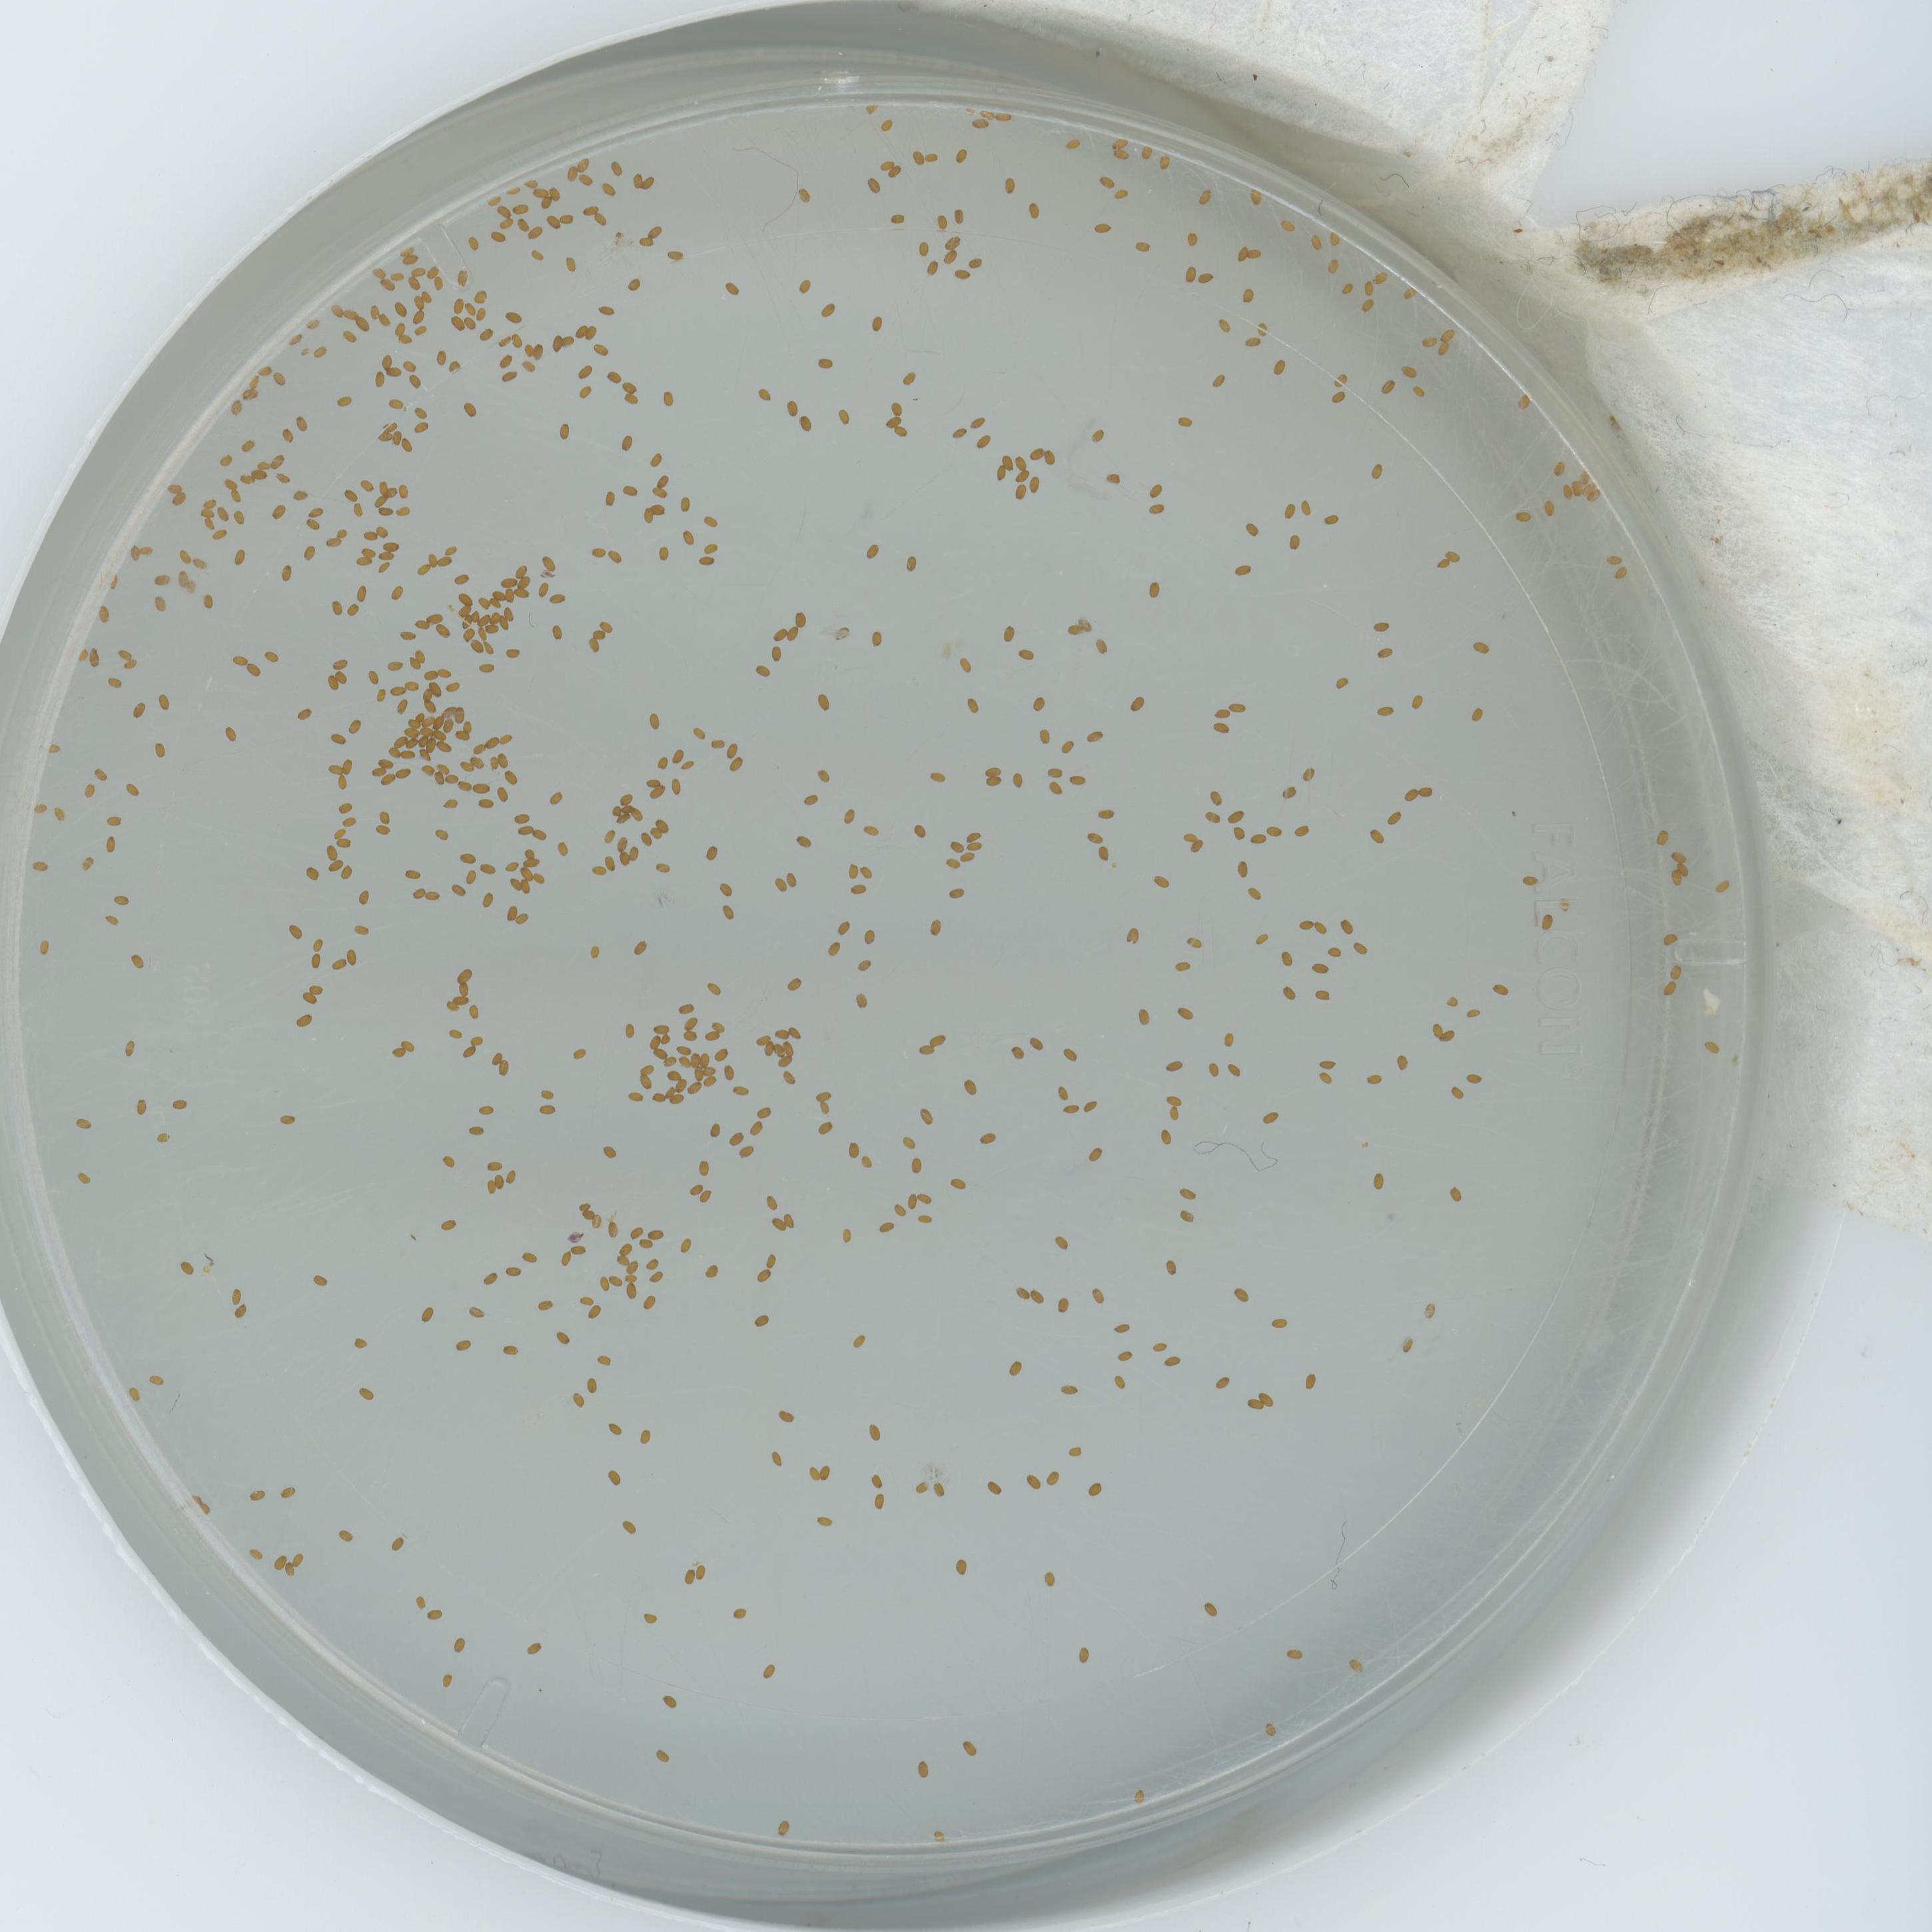seed: (855, 955, 876, 975), (1023, 200, 1042, 221), (1000, 175, 1019, 196), (957, 1739, 978, 1759), (771, 1819, 793, 1838), (195, 1500, 216, 1520), (127, 950, 147, 970), (1164, 1054, 1184, 1074), (1346, 1656, 1366, 1675), (1131, 1789, 1150, 1808), (186, 1484, 205, 1504), (540, 554, 557, 575), (308, 952, 326, 973), (170, 1093, 191, 1111), (1369, 1171, 1387, 1192), (929, 1828, 950, 1845), (147, 1373, 168, 1391), (1067, 771, 1090, 787), (175, 547, 193, 566), (502, 904, 520, 924), (591, 340, 610, 357), (931, 1481, 950, 1499), (952, 1559, 970, 1578), (782, 1067, 800, 1086), (1127, 695, 1146, 713), (1277, 948, 1297, 966), (1537, 911, 1555, 931), (1162, 1352, 1182, 1369), (1258, 1389, 1276, 1408), (1284, 1645, 1304, 1663), (1060, 1382, 1079, 1399), (126, 1385, 145, 1403), (32, 856, 51, 874), (51, 805, 71, 823), (952, 267, 973, 283), (87, 648, 101, 671), (354, 890, 372, 908), (111, 892, 129, 909), (901, 368, 918, 386), (577, 361, 594, 379), (669, 747, 686, 764), (784, 398, 801, 416), (927, 918, 945, 936), (285, 922, 303, 939), (796, 414, 814, 432), (462, 400, 479, 418), (655, 860, 672, 878), (292, 414, 310, 432), (458, 849, 476, 867), (816, 694, 833, 711), (497, 350, 515, 368), (865, 541, 883, 559), (858, 863, 876, 881), (357, 476, 375, 494), (352, 584, 370, 602), (276, 564, 294, 582), (793, 610, 810, 628), (474, 591, 492, 609), (617, 433, 635, 451), (230, 508, 248, 525), (954, 147, 971, 165), (554, 1327, 571, 1345), (177, 1258, 195, 1276), (418, 1304, 435, 1322), (817, 1116, 835, 1134), (906, 1155, 924, 1173), (950, 1175, 968, 1192), (846, 1139, 863, 1157), (727, 1131, 745, 1148), (754, 1030, 771, 1047), (1472, 637, 1490, 655), (1092, 637, 1109, 655), (1008, 771, 1026, 789), (1145, 580, 1162, 598), (1233, 862, 1251, 879), (1368, 462, 1385, 479), (1024, 1474, 1042, 1491), (1042, 1468, 1060, 1486), (980, 1127, 998, 1145), (1447, 1185, 1465, 1203), (1074, 1647, 1092, 1665), (1263, 1721, 1281, 1739), (1714, 879, 1732, 897), (1661, 931, 1679, 948), (1667, 869, 1684, 886), (1654, 830, 1672, 847), (1612, 566, 1629, 584), (1605, 552, 1622, 570), (1539, 501, 1557, 518), (1550, 460, 1568, 478), (1555, 483, 1573, 501), (1585, 488, 1603, 506), (1578, 467, 1596, 485), (1569, 481, 1587, 499), (1077, 616, 1095, 633), (575, 156, 593, 173), (30, 801, 48, 819), (690, 725, 709, 741), (478, 326, 497, 341), (950, 207, 966, 226), (113, 646, 133, 662), (356, 315, 372, 334), (511, 216, 531, 232), (294, 1010, 313, 1026), (653, 1017, 672, 1033), (453, 1336, 472, 1352), (497, 1058, 513, 1077), (915, 1760, 931, 1780), (1044, 764, 1063, 780), (1378, 379, 1398, 395), (1182, 264, 1198, 283), (1428, 1023, 1444, 1042), (1230, 1284, 1249, 1300), (955, 658, 975, 674), (1173, 961, 1192, 977), (1557, 895, 1573, 915), (122, 1039, 138, 1058), (35, 938, 51, 957), (80, 855, 96, 874), (41, 740, 60, 755), (129, 543, 143, 564), (106, 570, 120, 591), (888, 400, 906, 416), (943, 235, 961, 251), (679, 529, 697, 545), (129, 702, 147, 718), (941, 248, 959, 264), (678, 495, 694, 513), (600, 180, 617, 196), (479, 862, 497, 878), (449, 883, 467, 899), (403, 678, 421, 694), (621, 379, 639, 395), (794, 833, 812, 849), (269, 502, 287, 518), (386, 393, 403, 409), (154, 694, 172, 709), (563, 255, 580, 271), (425, 888, 442, 904), (623, 481, 639, 499), (718, 881, 734, 899), (391, 299, 409, 315), (504, 308, 522, 324), (403, 867, 421, 883), (511, 198, 529, 214), (104, 674, 122, 690), (598, 301, 616, 317), (432, 349, 449, 364), (543, 212, 561, 228), (648, 221, 663, 239), (343, 948, 359, 966), (924, 258, 939, 276), (375, 524, 393, 540), (667, 246, 685, 262), (391, 699, 409, 715), (306, 502, 324, 518), (320, 844, 338, 860), (771, 878, 789, 893), (554, 842, 571, 858), (412, 616, 430, 632), (336, 800, 354, 816), (398, 628, 416, 644), (911, 823, 929, 839), (556, 423, 573, 439), (648, 451, 665, 467), (295, 706, 313, 722), (387, 586, 405, 602), (628, 172, 644, 189), (862, 929, 879, 945), (582, 200, 600, 216), (531, 826, 548, 842), (103, 812, 120, 828), (433, 826, 451, 842), (564, 165, 580, 182), (702, 513, 720, 529), (548, 623, 566, 639), (341, 329, 359, 345), (915, 241, 932, 257), (646, 711, 662, 729), (502, 770, 520, 786), (863, 823, 881, 839), (842, 809, 860, 824), (90, 766, 108, 782), (492, 787, 510, 803), (340, 865, 356, 883), (720, 904, 738, 920), (483, 734, 501, 750), (632, 939, 649, 955), (626, 276, 644, 292), (724, 741, 740, 759), (149, 741, 166, 757), (448, 315, 465, 331), (216, 451, 234, 467), (421, 695, 437, 713), (828, 939, 844, 957), (639, 508, 656, 524), (497, 754, 515, 770), (651, 502, 669, 518), (547, 336, 564, 352), (329, 303, 347, 318), (150, 596, 168, 612), (449, 297, 467, 313), (170, 490, 186, 508), (152, 571, 170, 587), (166, 479, 184, 495), (628, 1224, 646, 1240), (867, 1424, 885, 1440), (918, 1106, 934, 1123), (426, 1605, 442, 1622), (584, 1376, 602, 1392), (310, 1270, 327, 1286), (853, 993, 870, 1008), (504, 1261, 522, 1277), (357, 1385, 375, 1401), (648, 1269, 665, 1284), (485, 1155, 502, 1171), (623, 1283, 640, 1299), (602, 1141, 619, 1157), (872, 1491, 888, 1509), (655, 1746, 672, 1762), (520, 1247, 538, 1263), (851, 1332, 869, 1348), (269, 1553, 287, 1569), (713, 1044, 731, 1060), (761, 1661, 777, 1679), (637, 1428, 655, 1444), (816, 1511, 833, 1527), (748, 1120, 766, 1136), (467, 1302, 485, 1318), (916, 1189, 934, 1205), (73, 1113, 90, 1129), (605, 1221, 621, 1238), (763, 1192, 780, 1208), (226, 1288, 242, 1306), (688, 1178, 704, 1196), (570, 1242, 587, 1258), (782, 1039, 798, 1056), (456, 966, 474, 982), (504, 1168, 520, 1185), (777, 1049, 793, 1067), (614, 1249, 630, 1267), (1385, 810, 1403, 826), (1085, 727, 1102, 743), (1226, 809, 1244, 824), (1175, 412, 1192, 428), (1215, 315, 1231, 333), (1001, 625, 1017, 642), (1123, 927, 1139, 945), (1376, 702, 1394, 718), (1146, 501, 1164, 517), (1230, 826, 1247, 842), (1297, 499, 1315, 515), (1058, 738, 1076, 754), (1033, 729, 1051, 745), (1152, 874, 1169, 890), (1368, 828, 1385, 844), (1338, 918, 1355, 934), (1238, 287, 1256, 303), (1097, 807, 1115, 823), (1016, 646, 1033, 662), (1228, 699, 1246, 715), (1146, 483, 1164, 499), (1187, 839, 1205, 855), (1263, 823, 1281, 839), (1269, 359, 1286, 375), (1401, 787, 1419, 803), (1000, 453, 1016, 471), (1205, 1060, 1221, 1077), (1219, 1031, 1237, 1047), (1008, 1042, 1026, 1058), (1088, 1284, 1104, 1302), (1054, 1085, 1072, 1100), (1157, 1127, 1173, 1145), (1060, 1044, 1077, 1060), (1178, 1184, 1196, 1200), (1053, 1295, 1070, 1311), (1081, 1097, 1099, 1113), (1065, 1442, 1083, 1458), (1201, 1601, 1219, 1617), (1313, 985, 1330, 1001), (1224, 1060, 1242, 1076), (1164, 1090, 1182, 1106), (1030, 1286, 1046, 1304), (1085, 1481, 1102, 1497), (1109, 1373, 1127, 1389), (1465, 1069, 1483, 1085), (1261, 1108, 1279, 1123), (1398, 1336, 1415, 1352), (1704, 1039, 1721, 1054), (1670, 847, 1686, 865), (1514, 510, 1532, 525), (1437, 341, 1453, 359), (1438, 327, 1454, 345), (1403, 285, 1419, 303), (1325, 260, 1343, 276), (1325, 232, 1341, 249), (1253, 322, 1270, 338), (1155, 154, 1171, 172), (1139, 145, 1155, 163), (902, 556, 918, 573), (575, 1196, 593, 1212), (688, 1051, 704, 1069), (678, 1053, 694, 1070), (494, 333, 511, 349), (456, 269, 472, 287), (485, 191, 502, 207), (502, 180, 520, 196), (522, 173, 540, 189), (97, 607, 115, 623), (226, 400, 244, 416), (241, 387, 258, 403), (244, 375, 262, 391), (911, 149, 925, 168), (849, 883, 869, 897), (763, 1039, 777, 1058), (1394, 1053, 1408, 1072), (1309, 961, 1329, 975), (1111, 134, 1131, 149), (971, 117, 991, 131), (579, 1208, 598, 1223), (370, 264, 389, 278), (74, 646, 88, 665), (324, 536, 345, 548), (966, 840, 987, 853), (405, 276, 421, 292), (948, 839, 964, 855), (655, 472, 671, 488), (364, 669, 380, 685), (755, 663, 771, 679), (607, 368, 623, 384), (304, 867, 320, 883), (122, 782, 138, 798), (589, 543, 605, 559), (211, 527, 226, 543), (837, 409, 853, 425), (607, 548, 623, 564), (617, 789, 633, 805), (655, 755, 671, 771), (548, 591, 564, 607), (345, 602, 361, 617), (379, 352, 395, 368), (341, 487, 357, 502), (669, 778, 685, 794), (771, 626, 787, 642), (478, 796, 494, 812), (327, 600, 343, 616), (725, 281, 741, 297), (334, 391, 350, 407), (310, 936, 326, 952), (301, 545, 317, 561), (239, 437, 255, 453), (837, 918, 853, 934), (214, 504, 230, 520), (311, 343, 327, 359), (467, 640, 483, 656), (412, 419, 428, 435), (200, 593, 216, 609), (548, 184, 564, 200), (504, 858, 520, 874), (729, 757, 745, 773), (709, 736, 725, 752), (890, 209, 906, 225), (770, 646, 786, 662), (513, 810, 529, 826), (821, 301, 837, 317), (479, 892, 495, 908), (757, 386, 773, 402), (407, 373, 423, 389), (462, 870, 478, 886), (593, 211, 609, 226), (869, 315, 885, 331), (704, 846, 720, 862), (879, 117, 895, 133), (478, 660, 494, 676), (472, 287, 488, 303), (262, 648, 278, 663), (548, 789, 564, 805), (817, 354, 833, 370), (326, 761, 341, 777), (345, 718, 361, 734), (662, 389, 678, 405), (816, 768, 832, 784), (656, 545, 672, 561), (101, 837, 117, 853), (945, 856, 961, 872), (271, 453, 287, 469), (292, 487, 308, 502), (867, 175, 883, 191), (395, 483, 410, 499), (81, 782, 97, 798), (504, 644, 520, 660), (602, 490, 617, 506), (948, 885, 964, 901), (409, 885, 425, 901), (246, 663, 262, 679), (609, 159, 625, 175), (232, 548, 248, 564), (586, 637, 602, 653), (361, 527, 377, 543), (375, 823, 391, 839), (462, 315, 478, 331), (464, 235, 479, 251), (602, 828, 617, 844), (272, 370, 288, 386), (846, 863, 862, 879), (616, 837, 632, 853), (796, 278, 812, 294), (529, 246, 545, 262), (637, 832, 653, 847), (602, 855, 617, 870), (561, 333, 577, 349), (393, 320, 409, 336), (380, 278, 396, 294), (437, 663, 453, 679), (515, 909, 531, 925), (226, 487, 242, 502), (460, 626, 476, 642), (343, 304, 359, 320), (533, 184, 548, 200), (375, 479, 391, 495), (382, 534, 398, 550), (639, 1072, 655, 1088), (469, 1122, 485, 1138), (621, 1520, 637, 1536), (354, 1334, 370, 1350), (441, 1215, 456, 1231), (869, 1472, 885, 1488), (732, 1081, 748, 1097), (915, 1479, 931, 1495), (755, 1102, 771, 1118), (704, 1261, 720, 1277), (467, 1003, 483, 1019), (642, 1293, 658, 1309), (451, 1637, 467, 1652), (389, 1536, 405, 1552), (662, 1693, 678, 1709), (478, 1100, 494, 1116), (901, 1132, 916, 1148), (920, 1040, 936, 1056), (571, 1044, 587, 1060), (232, 1302, 248, 1318), (679, 998, 695, 1014), (651, 1088, 667, 1104), (683, 1016, 699, 1031), (594, 1274, 610, 1290), (412, 1594, 428, 1610), (722, 1063, 738, 1079), (527, 1640, 543, 1656), (678, 1237, 694, 1253), (879, 1217, 895, 1233), (642, 1610, 658, 1626), (819, 1465, 835, 1481), (607, 1468, 623, 1484), (483, 1269, 499, 1284), (784, 1212, 800, 1228), (697, 1159, 713, 1175), (540, 1100, 556, 1116), (338, 1527, 354, 1543), (732, 1605, 748, 1621), (439, 1672, 455, 1688), (755, 1311, 771, 1327), (502, 1341, 518, 1357), (770, 1449, 786, 1465), (133, 1097, 149, 1113), (708, 1120, 724, 1136), (621, 1023, 637, 1039), (770, 1214, 786, 1230), (644, 1254, 660, 1270), (278, 1109, 294, 1125), (400, 1037, 416, 1053), (681, 1026, 697, 1042), (1028, 444, 1044, 460), (1246, 886, 1261, 902), (1281, 502, 1297, 518), (1376, 644, 1392, 660), (1235, 561, 1251, 577), (1207, 791, 1223, 807), (1249, 832, 1265, 847), (1470, 708, 1486, 724), (1435, 556, 1451, 571), (1408, 694, 1424, 709), (1210, 372, 1226, 387), (1327, 943, 1343, 959), (1097, 173, 1113, 189), (1401, 363, 1417, 379), (1111, 186, 1127, 202), (1300, 766, 1316, 782), (1244, 520, 1260, 536), (1334, 674, 1350, 690), (1352, 939, 1368, 955), (1198, 267, 1214, 283), (1293, 823, 1309, 839), (1093, 846, 1109, 862), (1030, 697, 1046, 713), (966, 697, 982, 713), (1286, 533, 1302, 548), (1026, 476, 1042, 492), (1046, 780, 1062, 796), (1281, 786, 1297, 801), (975, 433, 991, 449), (1185, 934, 1201, 950), (1419, 784, 1435, 800), (1444, 545, 1460, 561), (1040, 449, 1056, 465), (1332, 372, 1348, 387), (1253, 931, 1269, 947), (1410, 380, 1426, 396), (1014, 1284, 1030, 1300), (1007, 1359, 1023, 1375), (1281, 985, 1297, 1001), (1152, 1338, 1168, 1353), (1116, 1348, 1132, 1364), (1026, 1033, 1042, 1049), (1300, 1373, 1316, 1389), (1366, 1069, 1382, 1085), (1177, 1005, 1192, 1021), (1134, 1008, 1150, 1024), (1161, 1258, 1177, 1274), (1086, 1145, 1102, 1161), (1113, 1320, 1129, 1336), (1663, 980, 1679, 996), (1316, 1069, 1332, 1085), (1449, 1083, 1465, 1099), (1246, 1394, 1261, 1410), (1442, 1026, 1458, 1042), (1177, 1207, 1192, 1223), (1040, 1571, 1056, 1587), (1247, 246, 1263, 262), (1361, 281, 1376, 297), (1422, 1304, 1438, 1320), (1582, 481, 1598, 497), (1516, 395, 1532, 410), (1422, 333, 1438, 349), (1373, 271, 1389, 287), (1307, 234, 1323, 249), (1279, 218, 1295, 234), (1196, 189, 1212, 205), (961, 849, 977, 865), (952, 425, 968, 441), (865, 103, 881, 119), (591, 1215, 607, 1231), (441, 704, 456, 720), (446, 359, 462, 375), (281, 1484, 297, 1500), (249, 1486, 265, 1502), (248, 1550, 264, 1566), (193, 556, 209, 571), (184, 580, 200, 596), (140, 541, 156, 557), (258, 363, 274, 379), (287, 333, 303, 349), (306, 317, 322, 333), (297, 343, 313, 359), (472, 780, 490, 794), (426, 609, 444, 623), (501, 370, 518, 384), (442, 798, 460, 812), (410, 405, 428, 419), (352, 922, 370, 936), (428, 683, 446, 697), (304, 517, 322, 531), (200, 494, 218, 508), (331, 656, 349, 671), (386, 658, 403, 672), (559, 211, 577, 225), (653, 487, 671, 501), (579, 172, 596, 186), (402, 251, 419, 265), (221, 727, 239, 741), (501, 573, 518, 587), (577, 384, 594, 398), (441, 541, 458, 556), (274, 471, 292, 485), (326, 860, 343, 874), (395, 766, 412, 780), (340, 816, 357, 830), (359, 543, 377, 557), (375, 428, 393, 442), (536, 196, 554, 211), (628, 844, 642, 862), (333, 525, 350, 540), (520, 359, 538, 373), (442, 771, 460, 786), (120, 658, 138, 672), (628, 1088, 646, 1102), (755, 1267, 773, 1281), (816, 1086, 833, 1100), (648, 1224, 665, 1238), (639, 1060, 656, 1074), (695, 1562, 709, 1580), (916, 1210, 934, 1224), (651, 1046, 669, 1060), (807, 1463, 821, 1481), (778, 1408, 796, 1422), (702, 1063, 720, 1077), (1203, 810, 1221, 824), (1102, 469, 1120, 483), (1329, 389, 1346, 403), (1180, 830, 1198, 844), (1212, 720, 1230, 734), (1063, 623, 1081, 637), (1491, 982, 1509, 996), (1062, 1100, 1079, 1115), (1318, 1054, 1336, 1069), (1212, 1375, 1230, 1389), (1053, 1231, 1067, 1249), (103, 913, 120, 927), (1247, 189, 1261, 207), (771, 1040, 786, 1058), (1113, 149, 1131, 163), (994, 110, 1012, 124), (978, 106, 996, 120), (573, 320, 586, 340), (402, 725, 421, 738), (1085, 832, 1104, 844), (396, 244, 416, 257), (177, 570, 189, 589), (389, 685, 405, 699), (458, 591, 474, 605), (929, 770, 945, 784), (373, 690, 389, 704), (704, 540, 720, 554), (453, 571, 469, 586), (232, 653, 248, 667), (410, 310, 426, 324), (803, 793, 819, 807), (456, 778, 472, 793), (787, 626, 801, 642), (280, 426, 294, 442), (437, 556, 453, 570), (416, 563, 432, 577), (430, 771, 446, 786), (510, 333, 525, 347), (435, 625, 451, 639), (375, 810, 391, 824), (329, 732, 345, 747), (412, 324, 428, 338), (372, 372, 387, 386), (870, 632, 886, 646), (586, 324, 600, 340), (508, 878, 522, 893), (423, 667, 439, 681), (885, 414, 901, 428), (402, 357, 418, 372), (527, 225, 543, 239), (444, 679, 460, 694), (642, 175, 658, 189), (419, 764, 435, 778), (936, 212, 950, 228), (598, 617, 614, 632), (476, 306, 492, 320), (418, 748, 433, 763), (395, 504, 410, 518), (405, 656, 421, 671), (340, 759, 356, 773), (469, 741, 485, 755), (333, 775, 349, 789), (400, 748, 416, 763), (375, 311, 391, 326), (879, 156, 895, 170), (400, 437, 414, 453), (630, 807, 646, 821), (432, 274, 446, 290), (513, 563, 529, 577), (649, 786, 665, 800), (646, 775, 662, 789), (495, 203, 511, 218), (502, 607, 517, 623), (386, 745, 402, 759), (389, 269, 405, 283), (518, 879, 533, 895), (483, 640, 497, 656), (398, 333, 414, 347), (435, 741, 451, 755), (586, 945, 602, 959), (387, 363, 402, 379), (656, 817, 671, 833), (533, 341, 547, 357), (426, 264, 441, 280), (488, 587, 504, 602), (237, 472, 253, 487), (499, 617, 515, 632), (456, 603, 472, 617), (462, 718, 476, 734), (221, 474, 235, 490), (704, 1028, 720, 1042), (462, 1044, 478, 1058), (708, 980, 722, 996), (570, 1392, 586, 1407), (607, 1421, 623, 1435), (389, 1046, 405, 1060), (579, 1292, 594, 1306), (839, 1228, 855, 1242), (586, 1306, 602, 1320), (775, 1026, 791, 1040), (817, 1100, 833, 1115), (893, 1201, 908, 1217), (538, 1297, 554, 1311), (617, 1240, 633, 1254), (596, 1352, 612, 1366), (787, 977, 803, 991), (676, 1040, 692, 1054), (557, 1251, 573, 1265), (699, 1189, 715, 1203), (787, 1026, 803, 1040), (764, 1253, 780, 1267), (639, 1237, 655, 1251), (740, 1143, 755, 1157), (448, 1026, 464, 1040), (667, 1069, 683, 1083), (663, 1054, 679, 1069), (154, 1129, 170, 1143), (704, 1074, 720, 1088), (290, 1552, 306, 1566), (441, 1152, 456, 1166), (904, 1192, 918, 1208), (931, 1031, 947, 1046), (860, 1154, 876, 1168), (1090, 426, 1104, 442), (1244, 334, 1260, 349), (991, 465, 1005, 481), (1134, 237, 1150, 251), (1012, 485, 1028, 499), (1322, 511, 1338, 525), (1373, 619, 1389, 633), (1093, 219, 1109, 234), (970, 414, 985, 428), (968, 255, 982, 271), (1522, 874, 1537, 888), (1214, 708, 1230, 722), (1315, 920, 1330, 934), (1185, 230, 1200, 246), (1339, 280, 1355, 294), (985, 1481, 1001, 1495), (1465, 1005, 1481, 1019), (1270, 1315, 1286, 1329), (966, 1079, 980, 1095), (1164, 1106, 1180, 1120), (1668, 966, 1684, 980), (1361, 299, 1376, 313), (451, 996, 472, 1007), (833, 626, 849, 640), (796, 188, 812, 202), (694, 1065, 708, 1081), (432, 715, 446, 731), (200, 506, 216, 520), (517, 824, 534, 837), (699, 554, 717, 566), (513, 587, 531, 600), (709, 1021, 727, 1033), (984, 764, 1001, 777), (1237, 246, 1249, 264), (1065, 138, 1083, 150), (453, 706, 465, 724), (786, 872, 800, 886), (379, 504, 393, 518), (536, 582, 550, 596), (925, 149, 939, 163), (617, 853, 632, 867), (681, 759, 695, 773), (324, 676, 338, 690), (458, 759, 472, 773), (373, 494, 387, 508), (331, 828, 345, 842), (410, 262, 425, 276), (333, 957, 347, 971), (414, 648, 428, 662), (688, 1081, 702, 1095), (540, 1085, 554, 1099), (488, 1051, 502, 1065), (609, 1272, 623, 1286), (648, 1035, 662, 1049), (310, 980, 324, 994), (699, 1053, 713, 1067), (76, 1169, 90, 1184), (1299, 918, 1313, 932), (1014, 456, 1028, 471), (1445, 994, 1460, 1008), (407, 736, 421, 750), (488, 612, 502, 626), (349, 504, 364, 517), (490, 230, 506, 242), (375, 561, 391, 573), (379, 757, 395, 770), (591, 865, 607, 878), (888, 165, 904, 177), (379, 775, 395, 787), (533, 874, 548, 886), (893, 425, 909, 437), (334, 671, 350, 683), (389, 430, 402, 446), (497, 216, 513, 228), (200, 517, 216, 529), (623, 393, 639, 405), (485, 623, 501, 635), (379, 550, 395, 563), (356, 557, 372, 570), (370, 768, 386, 780), (591, 628, 607, 640), (471, 755, 487, 768), (469, 1031, 485, 1044), (683, 1569, 695, 1585), (669, 1092, 685, 1104), (1014, 471, 1030, 483), (966, 830, 982, 842), (456, 984, 472, 996), (660, 1031, 672, 1047), (665, 1085, 678, 1100), (426, 738, 439, 754), (423, 686, 435, 702), (476, 626, 488, 642), (478, 612, 490, 628), (462, 614, 474, 630), (370, 303, 380, 320), (249, 469, 267, 479), (299, 993, 317, 1003), (984, 777, 1001, 787), (421, 715, 439, 725), (639, 235, 653, 248), (464, 303, 478, 315), (421, 288, 433, 303), (410, 295, 423, 310), (499, 734, 513, 747), (522, 849, 536, 862), (384, 418, 398, 430), (610, 805, 623, 819), (520, 869, 533, 883), (336, 837, 350, 849), (518, 575, 533, 587), (435, 763, 449, 775), (393, 736, 407, 748), (433, 729, 448, 741), (257, 458, 271, 471), (504, 589, 517, 603), (616, 814, 630, 826), (384, 483, 396, 497), (524, 341, 536, 356), (283, 1562, 295, 1576), (626, 1260, 640, 1272), (485, 1178, 497, 1192), (626, 1269, 640, 1281), (446, 1001, 460, 1014), (1677, 863, 1690, 878), (619, 803, 633, 816), (419, 725, 433, 738), (416, 734, 428, 748), (442, 718, 453, 734), (524, 858, 540, 869), (494, 1173, 504, 1189), (407, 718, 423, 729), (490, 755, 499, 773), (456, 729, 469, 741), (426, 552, 439, 564), (651, 826, 663, 839), (674, 1079, 688, 1090), (414, 713, 426, 724), (472, 610, 481, 625)
